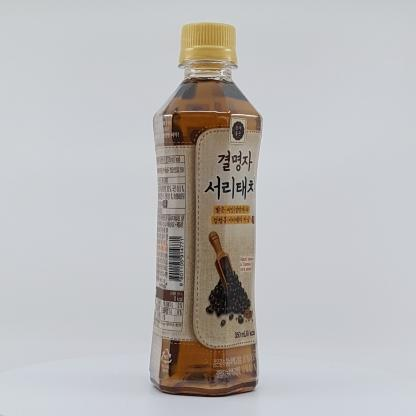----------350ML: (149, 22, 263, 396)
